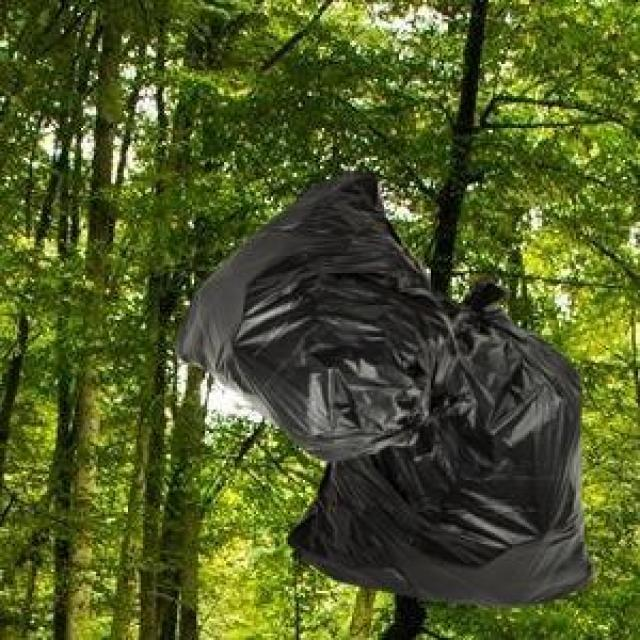miscellaneous trash: (284, 273, 589, 604), (171, 164, 467, 457)
